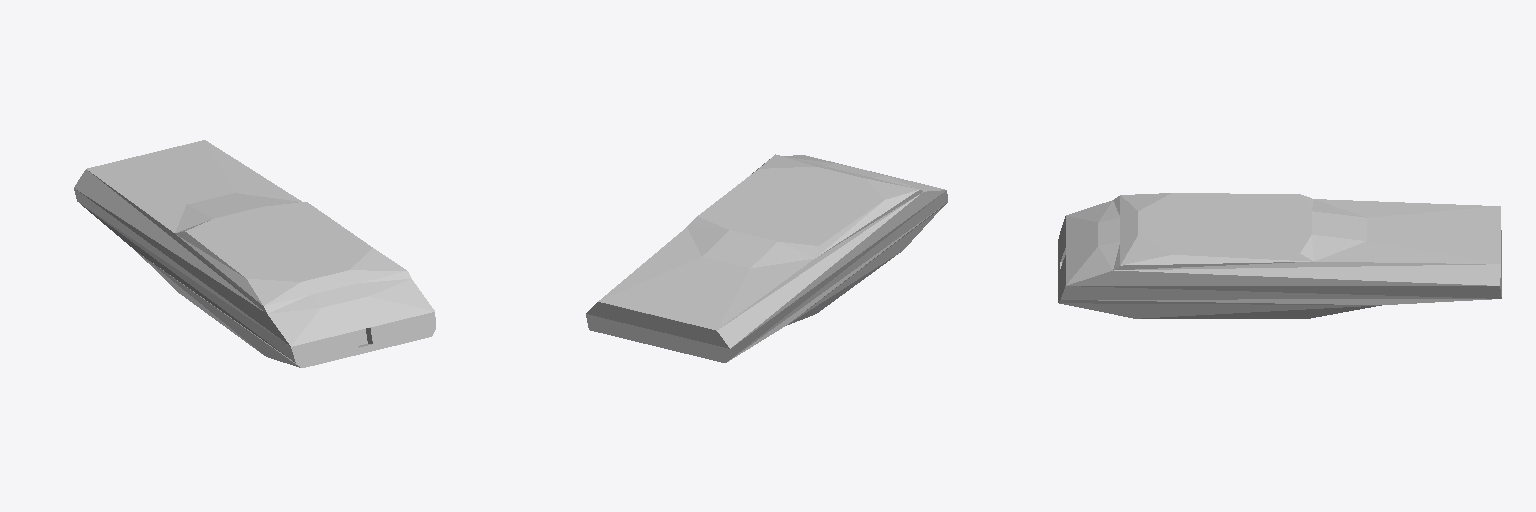
File: tower.obj
3 views of the same model, side by side, from view 1: azimuth 30°, elevation 25°; view 2: azimuth 150°, elevation 25°; view 3: azimuth 270°, elevation 25° (orthographic).
Visible parts, largest first — view 1: Cube.001_Cube.002; view 2: Cube.001_Cube.002; view 3: Cube.001_Cube.002.
Part boxes in pixels (x1,y1,x2,y2): Cube.001_Cube.002: (74, 140, 435, 367); Cube.001_Cube.002: (586, 154, 947, 362); Cube.001_Cube.002: (1058, 193, 1501, 318).
Bounding box in the file's own units: 2 × 0.8517 × 5.32.